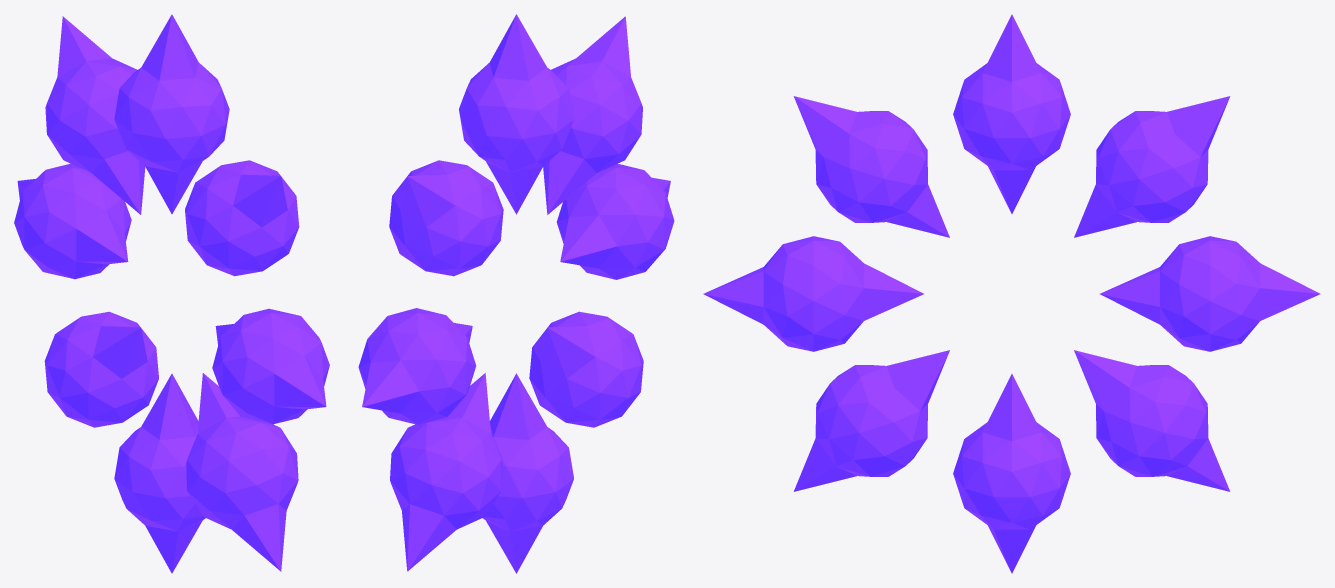
Rendered from checkpoint1.gltf.
3 views of the same model, side by side, from view 1: azimuth 30°, elevation 25°; view 2: azimuth 150°, elevation 25°; view 3: azimuth 270°, elevation 25° (orthographic).
Visible parts, largest first — view 1: Icosphere.001; view 2: Icosphere.001; view 3: Icosphere.001.
Boxes of the visible parts, box(x1,y1,x2,y2) form: Icosphere.001: box(14, 14, 329, 573); Icosphere.001: box(358, 14, 674, 573); Icosphere.001: box(703, 14, 1320, 573).
Size of the model in its own units: 1.9 by 10.48 by 10.48.
